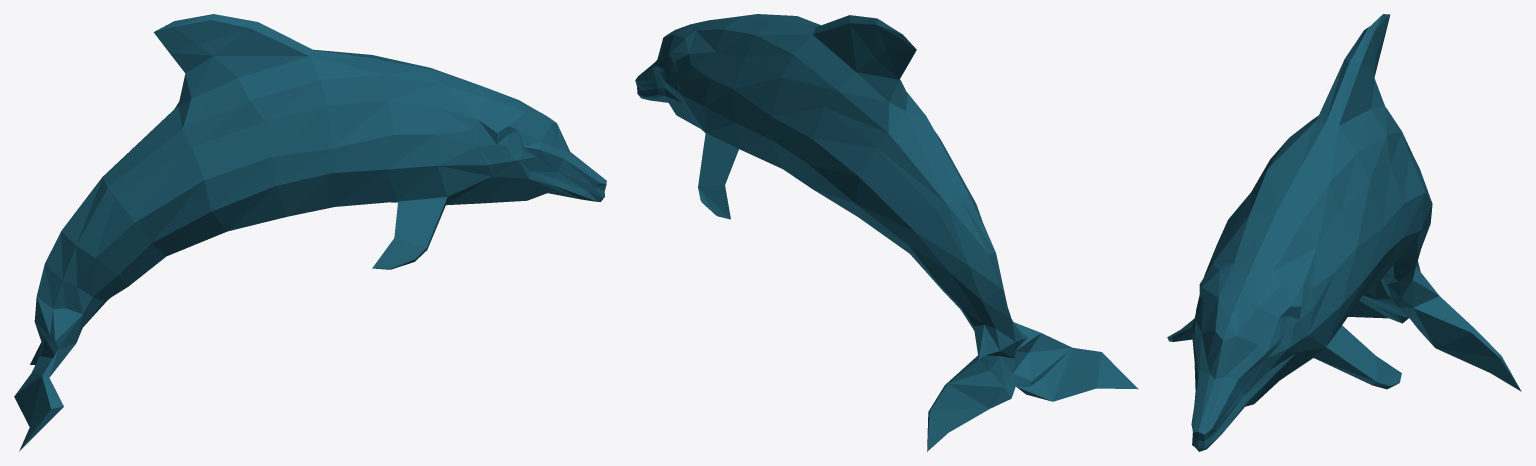
Rendered from dolphin.obj.
3 renders of one model, left to right at view 1: azimuth 30°, elevation 25°; view 2: azimuth 150°, elevation 25°; view 3: azimuth 270°, elevation 25°, orthographic. The views are drawn at different scales.
Parts seen in each view (by area): view 1: dolphin_small3; view 2: dolphin_small3; view 3: dolphin_small3.
Boxes of the visible parts, box(x1,y1,x2,y2) form: dolphin_small3: box(14, 14, 606, 451); dolphin_small3: box(635, 14, 1138, 451); dolphin_small3: box(1167, 14, 1521, 451).
Size of the model in its own units: 7.19 by 4.61 by 3.44.
